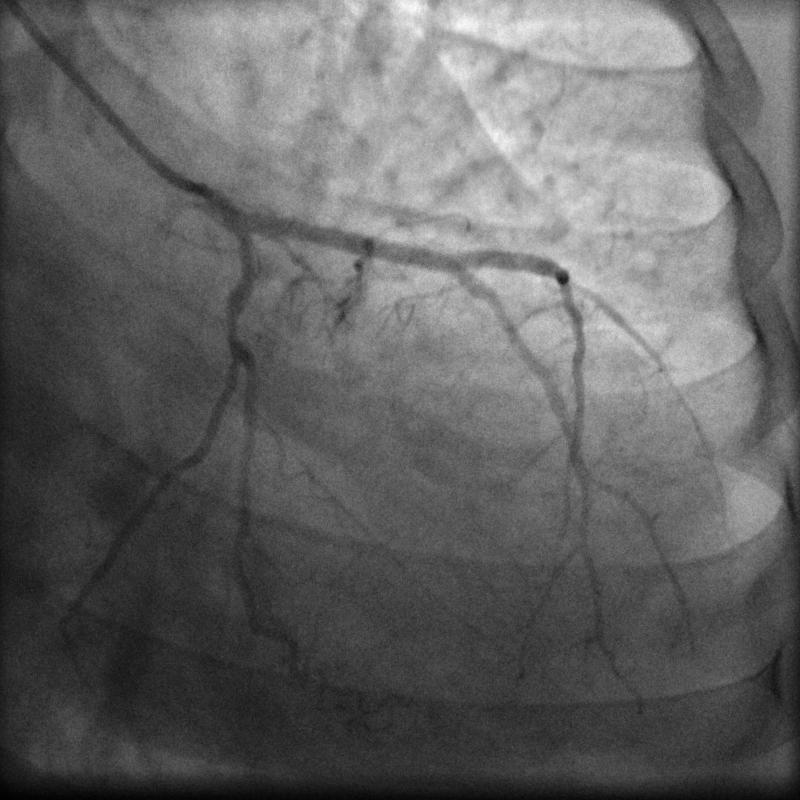Stenosis: (219, 288, 254, 352)
